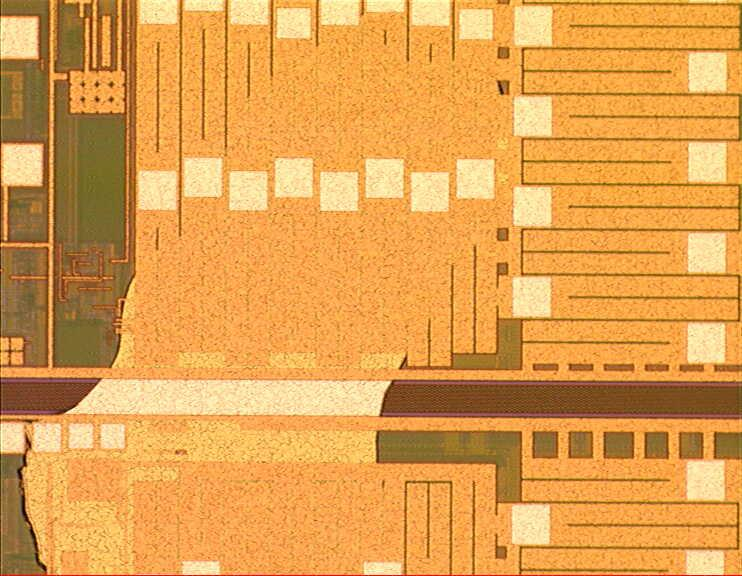COATING BAD: (22, 16, 510, 576)
